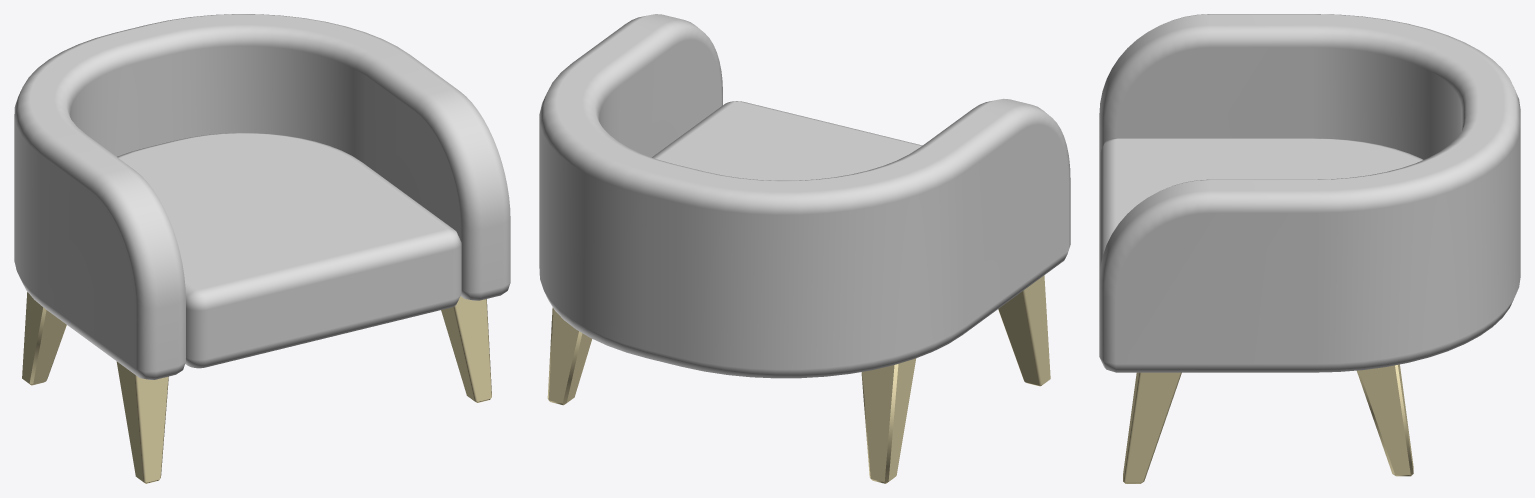
The model's file is SmallSofa.fbx.
The picture shows the model from 3 angles, left to right: view 1: azimuth 30°, elevation 25°; view 2: azimuth 150°, elevation 25°; view 3: azimuth 270°, elevation 25°; orthographic projection. The views are drawn at different scales.
Parts seen in each view (by area): view 1: SmallSofa; view 2: SmallSofa; view 3: SmallSofa.
Boxes of the visible parts, x1,y1,x2,y2 form: SmallSofa: (14,14,510,483); SmallSofa: (539,14,1070,483); SmallSofa: (1099,14,1520,483).
Bounding box in the file's own units: 80.6 × 57.92 × 75.34.
